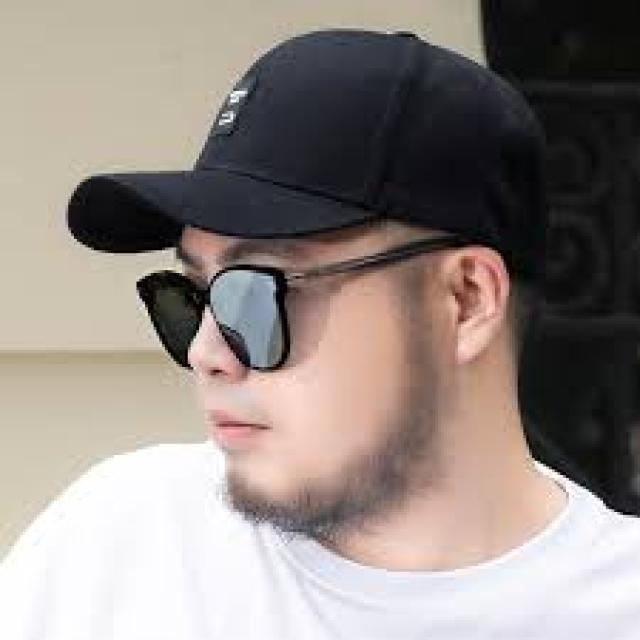cap: (55, 14, 568, 324)
